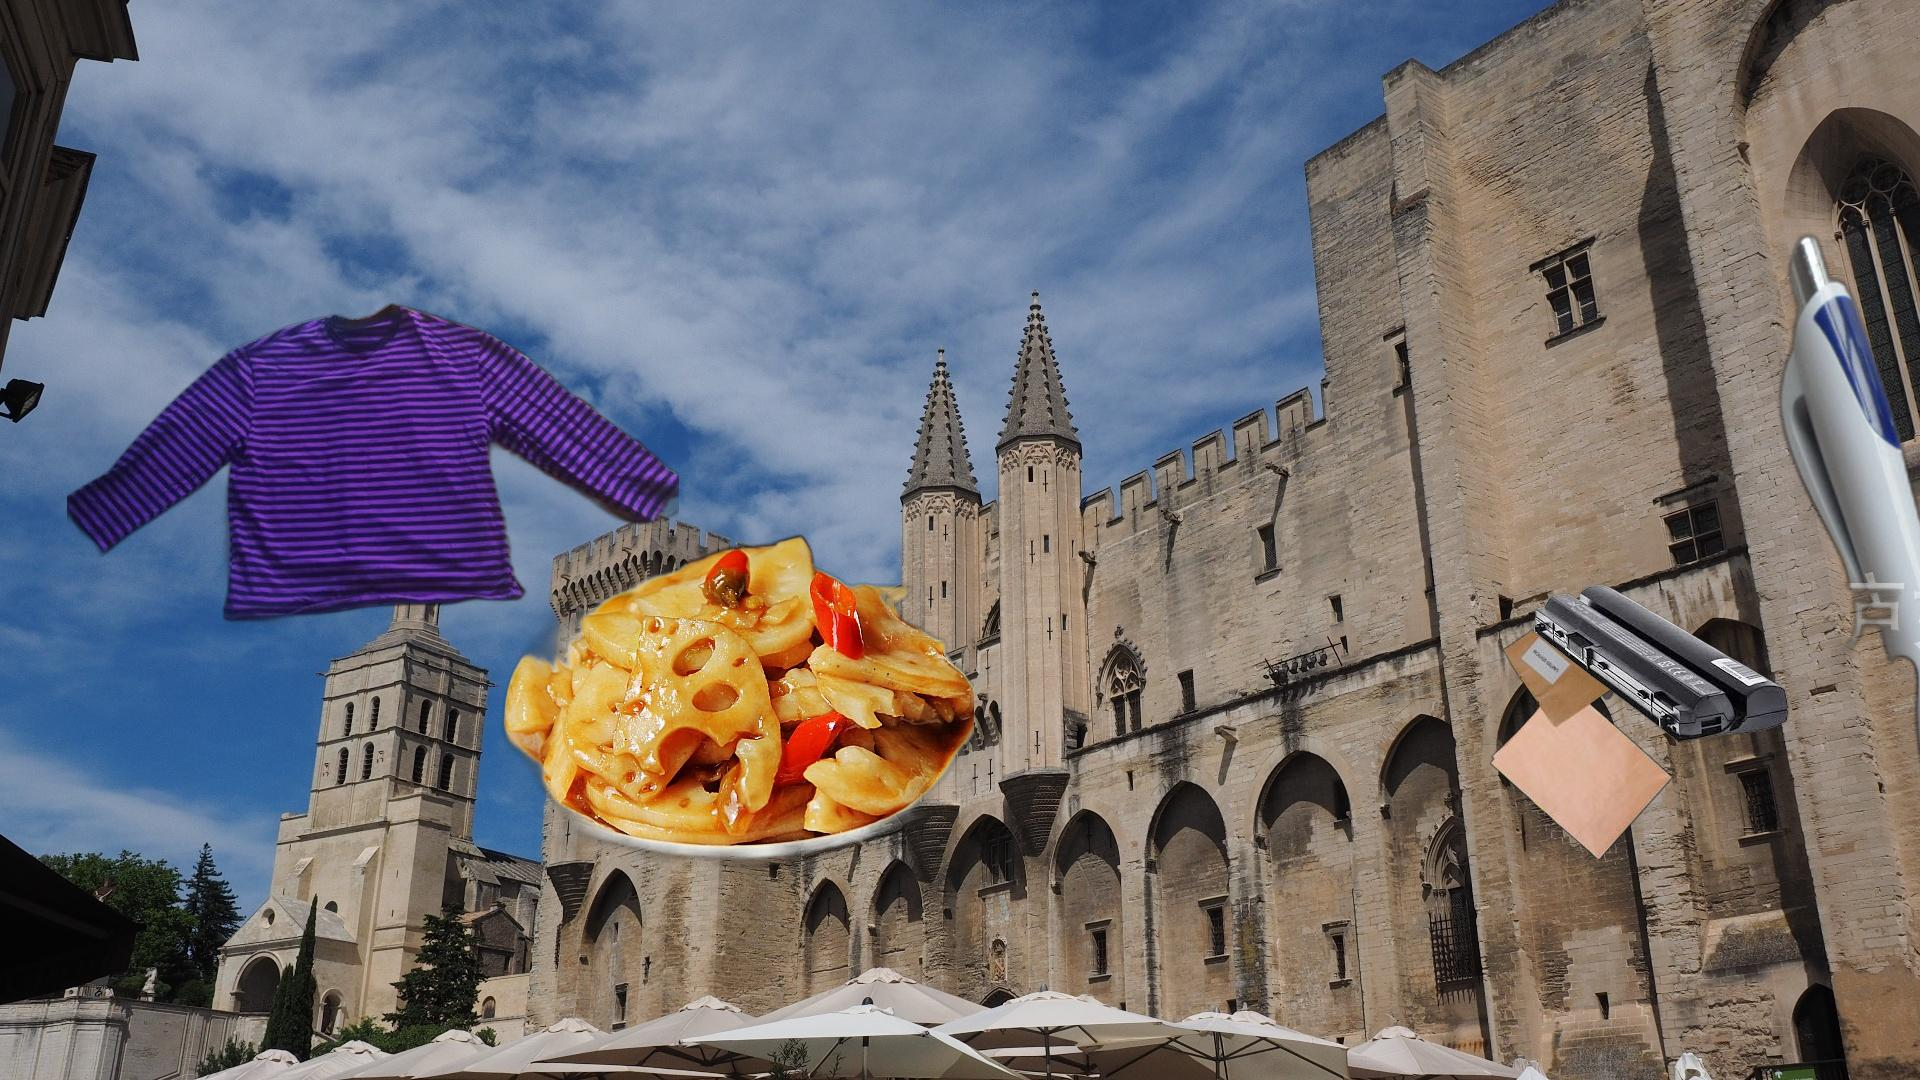battery: (1531, 582, 1789, 746)
biological: (477, 527, 975, 1030)
clothes: (67, 301, 679, 654)
paper-bag: (1487, 579, 1673, 862)
penholder: (1771, 185, 1920, 1069)
